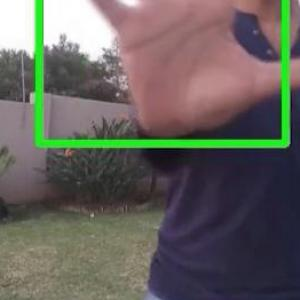follow_hand: (58, 0, 299, 145)
